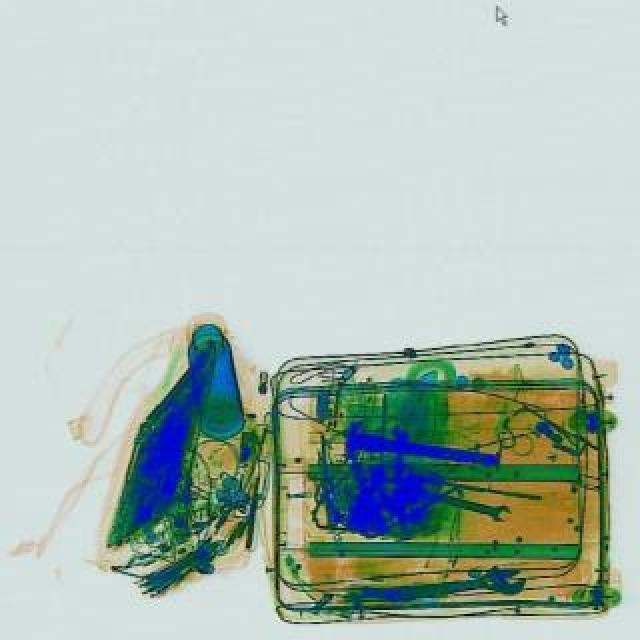scissors: (360, 560, 528, 612), (418, 482, 512, 526)
